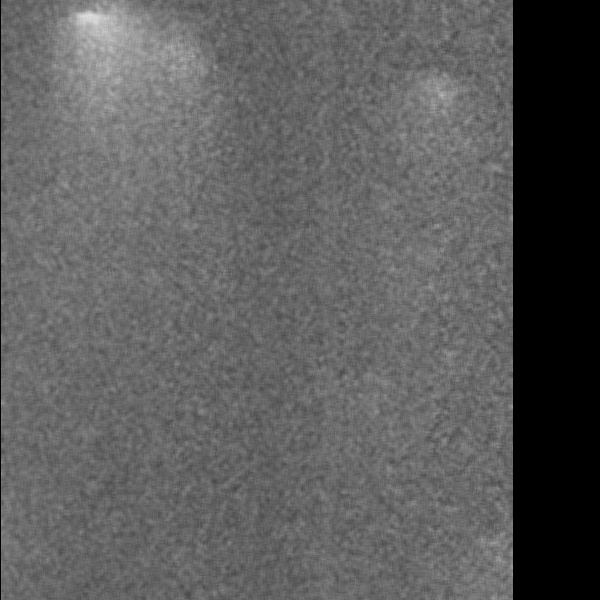spark: (51, 2, 141, 180), (419, 71, 462, 138)
